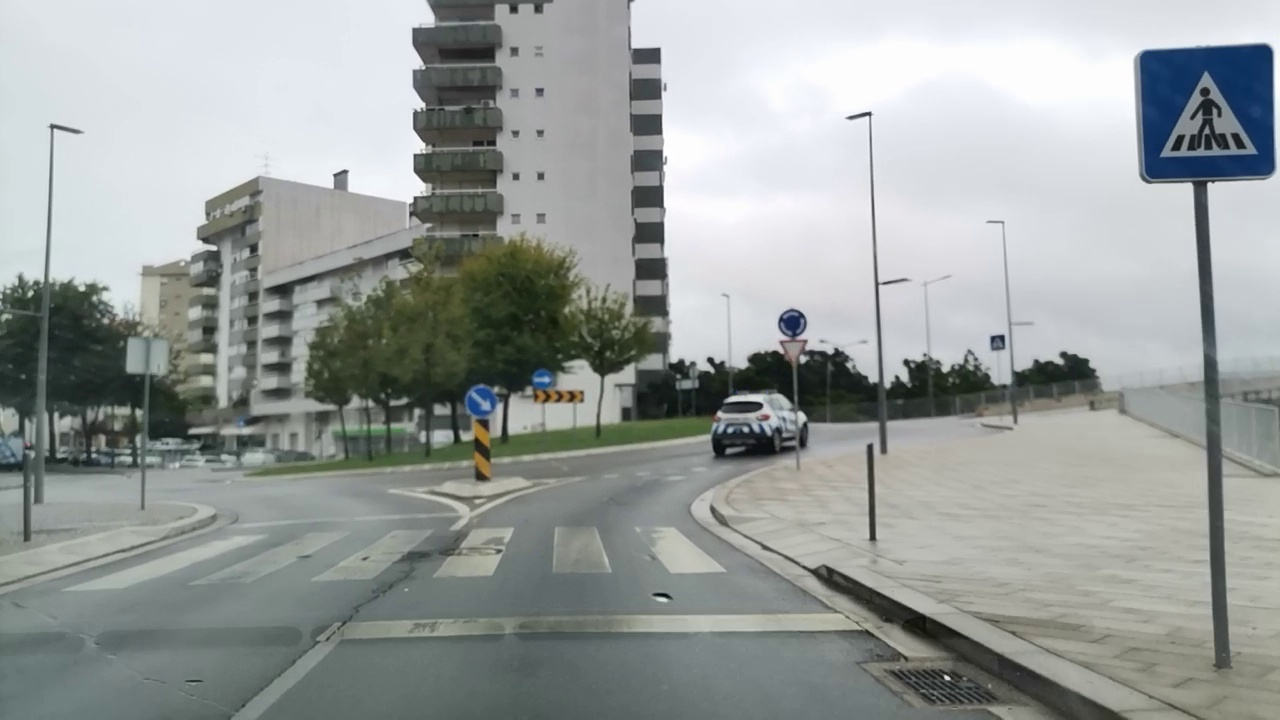Stairs: (67, 522, 737, 590)
